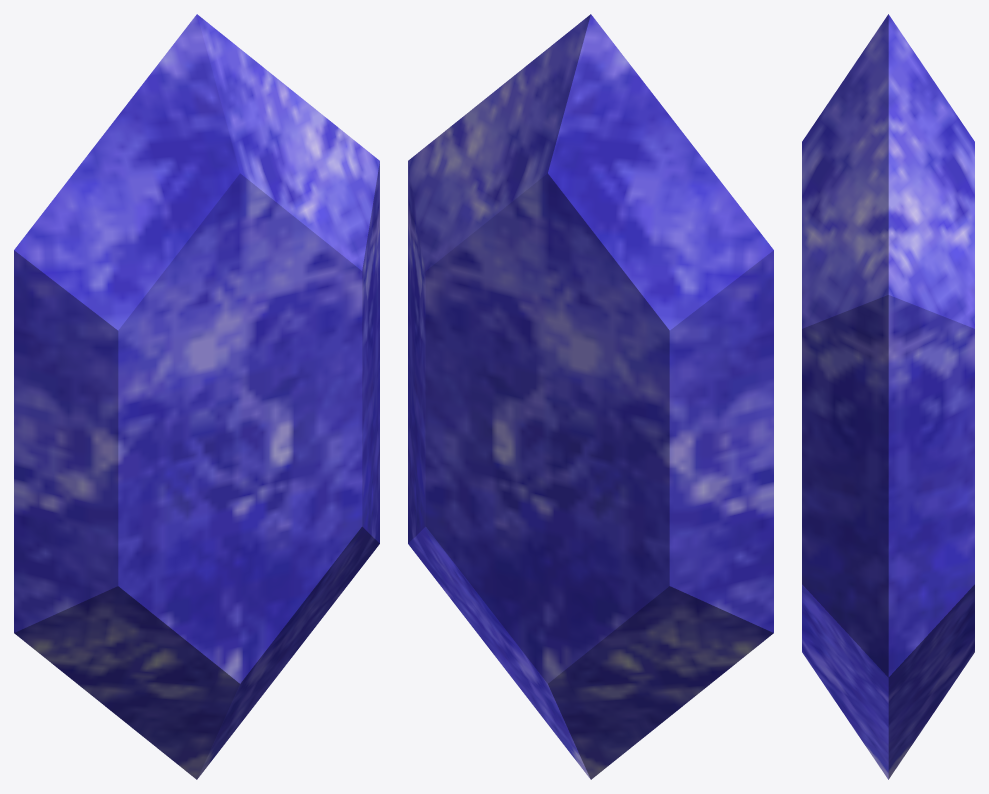
Rendered from ManaToken.FBX.
3 renders of one model, left to right at view 1: azimuth 30°, elevation 25°; view 2: azimuth 150°, elevation 25°; view 3: azimuth 270°, elevation 25°, orthographic.
Visible parts, largest first — view 1: mana_token; view 2: mana_token; view 3: mana_token.
Boxes of the visible parts, x1,y1,x2,y2 form: mana_token: (14, 14, 379, 779); mana_token: (408, 14, 773, 779); mana_token: (802, 14, 974, 779).
Bounding box in the file's own units: 48 × 96 × 19.62.
